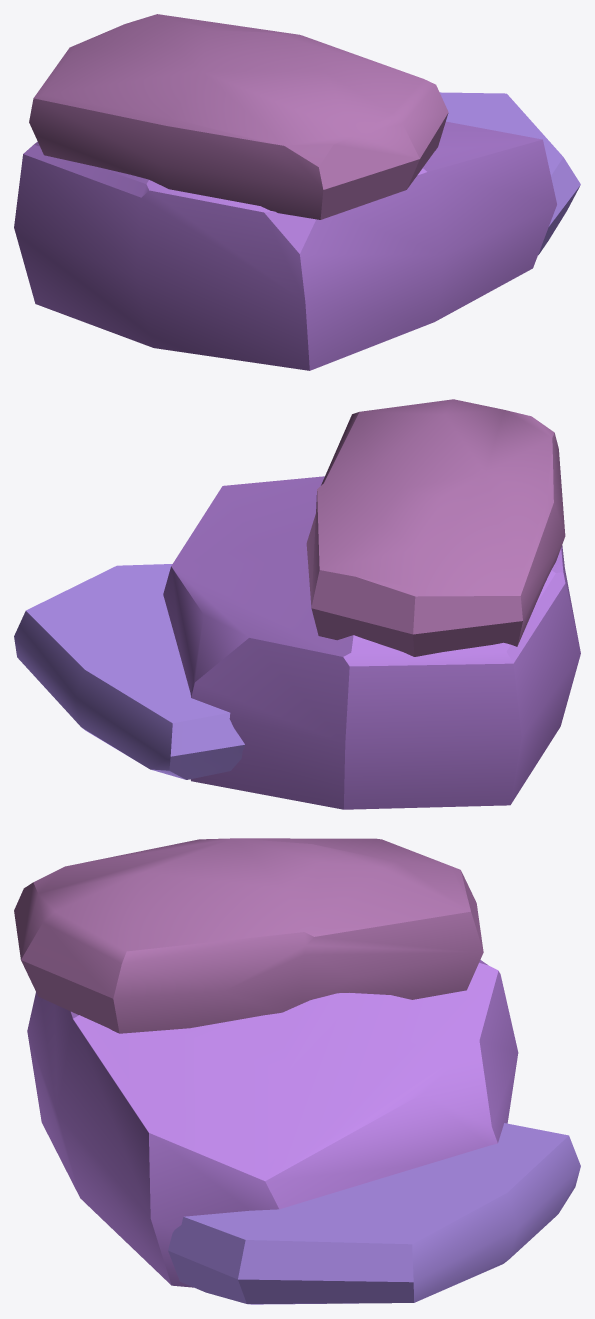
3 views of the same model, one above another, from view 1: azimuth 30°, elevation 25°; view 2: azimuth 150°, elevation 25°; view 3: azimuth 270°, elevation 25° (orthographic). The views are drawn at different scales.
Parts seen in each view (by area): view 1: Cube.035, Cube.040, Cube.037; view 2: Cube.035, Cube.040, Cube.037; view 3: Cube.035, Cube.040, Cube.037.
Part boxes in pixels (x1,y1,x2,y2): Cube.035: (14, 121, 556, 370); Cube.040: (29, 14, 448, 219); Cube.037: (439, 92, 580, 255); Cube.035: (163, 476, 580, 809); Cube.040: (306, 399, 565, 656); Cube.037: (14, 564, 244, 779); Cube.035: (27, 960, 518, 1287); Cube.040: (14, 838, 483, 1033); Cube.037: (168, 1123, 580, 1304).
Bounding box in the file's own units: 125 × 66.83 × 108.
